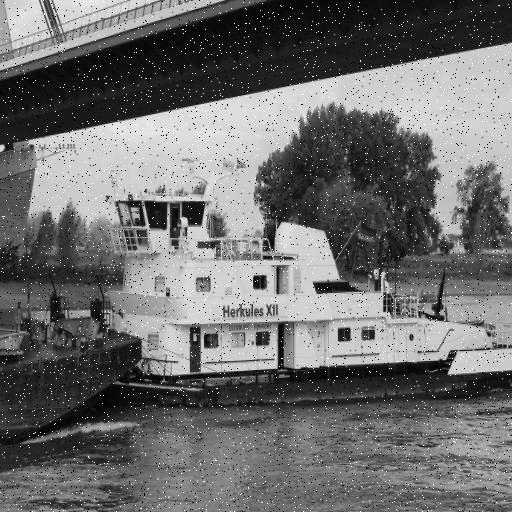tugboat: (43, 151, 512, 425)
